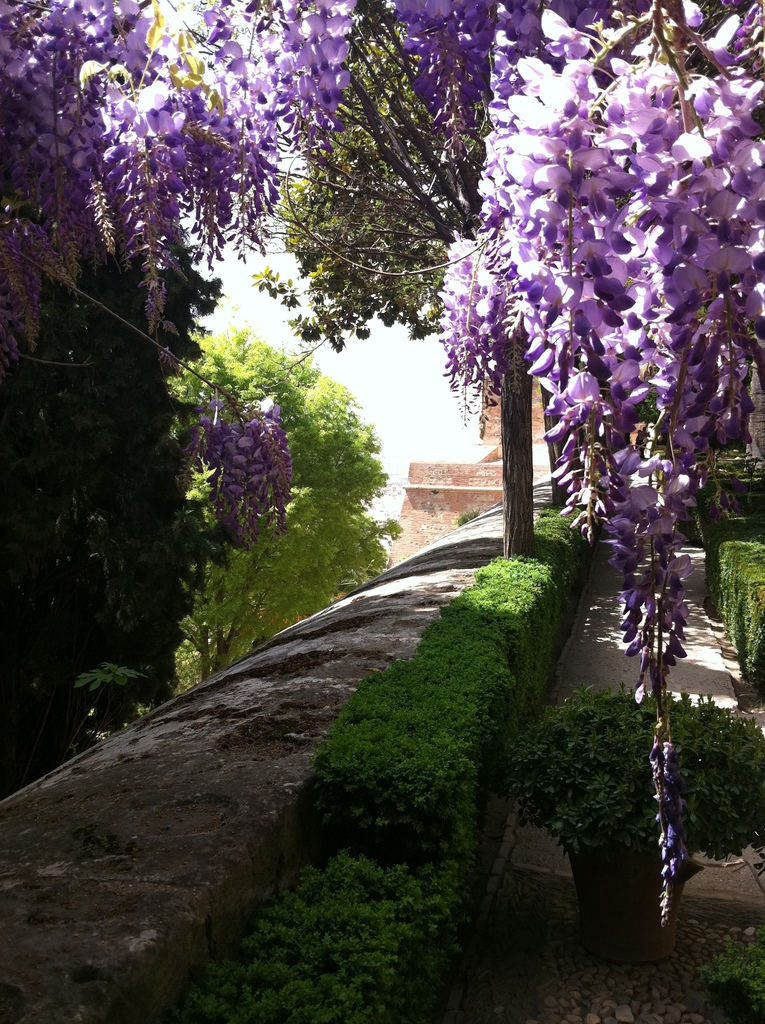Tree: (251, 0, 492, 377)
